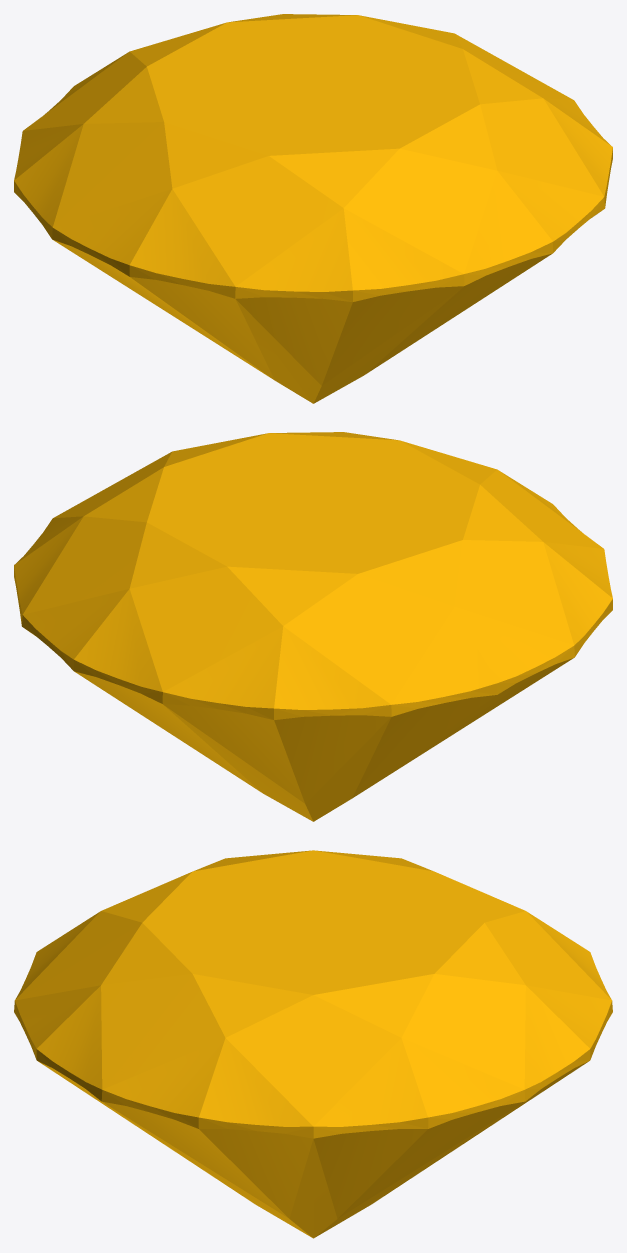
The model's file is gem01.FBX.
3 renders of one model, top to bottom at view 1: azimuth 30°, elevation 25°; view 2: azimuth 150°, elevation 25°; view 3: azimuth 270°, elevation 25°, orthographic.
Parts seen in each view (by area): view 1: gem01; view 2: gem01; view 3: gem01.
Part boxes in pixels (bbox=[...]): gem01: bbox=[14, 14, 612, 403]; gem01: bbox=[14, 432, 612, 821]; gem01: bbox=[14, 850, 612, 1238].
Size of the model in its own units: 4.65 by 4.65 by 2.71.
